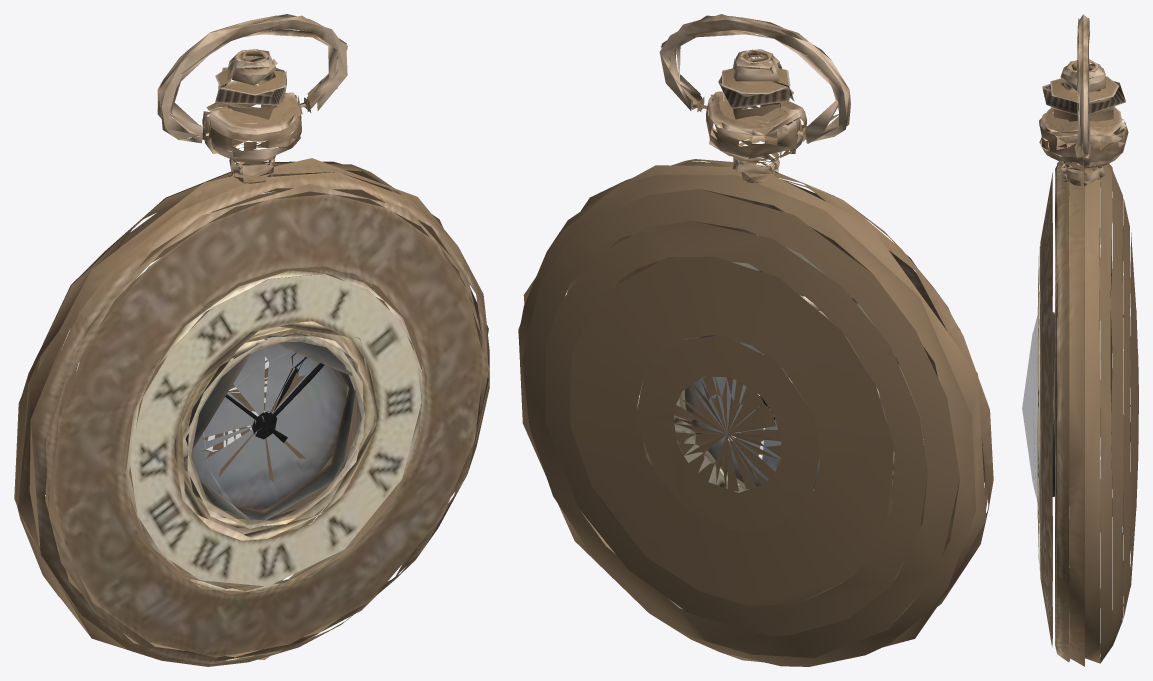
Rendered from vintage_pocket_watch.glb.
The picture shows the model from 3 angles, left to right: view 1: azimuth 30°, elevation 25°; view 2: azimuth 150°, elevation 25°; view 3: azimuth 270°, elevation 25°; orthographic projection. The views are drawn at different scales.
Parts seen in each view (by area): view 1: vintage_pocket_watch; view 2: vintage_pocket_watch; view 3: vintage_pocket_watch.
Part boxes in pixels (<box>): vintage_pocket_watch: <box>14,14,489,666</box>; vintage_pocket_watch: <box>518,14,993,666</box>; vintage_pocket_watch: <box>1022,14,1138,666</box>.
Size of the model in its own units: 0.0618 by 0.0805 by 0.0138.
3 materials, 1 textured.
